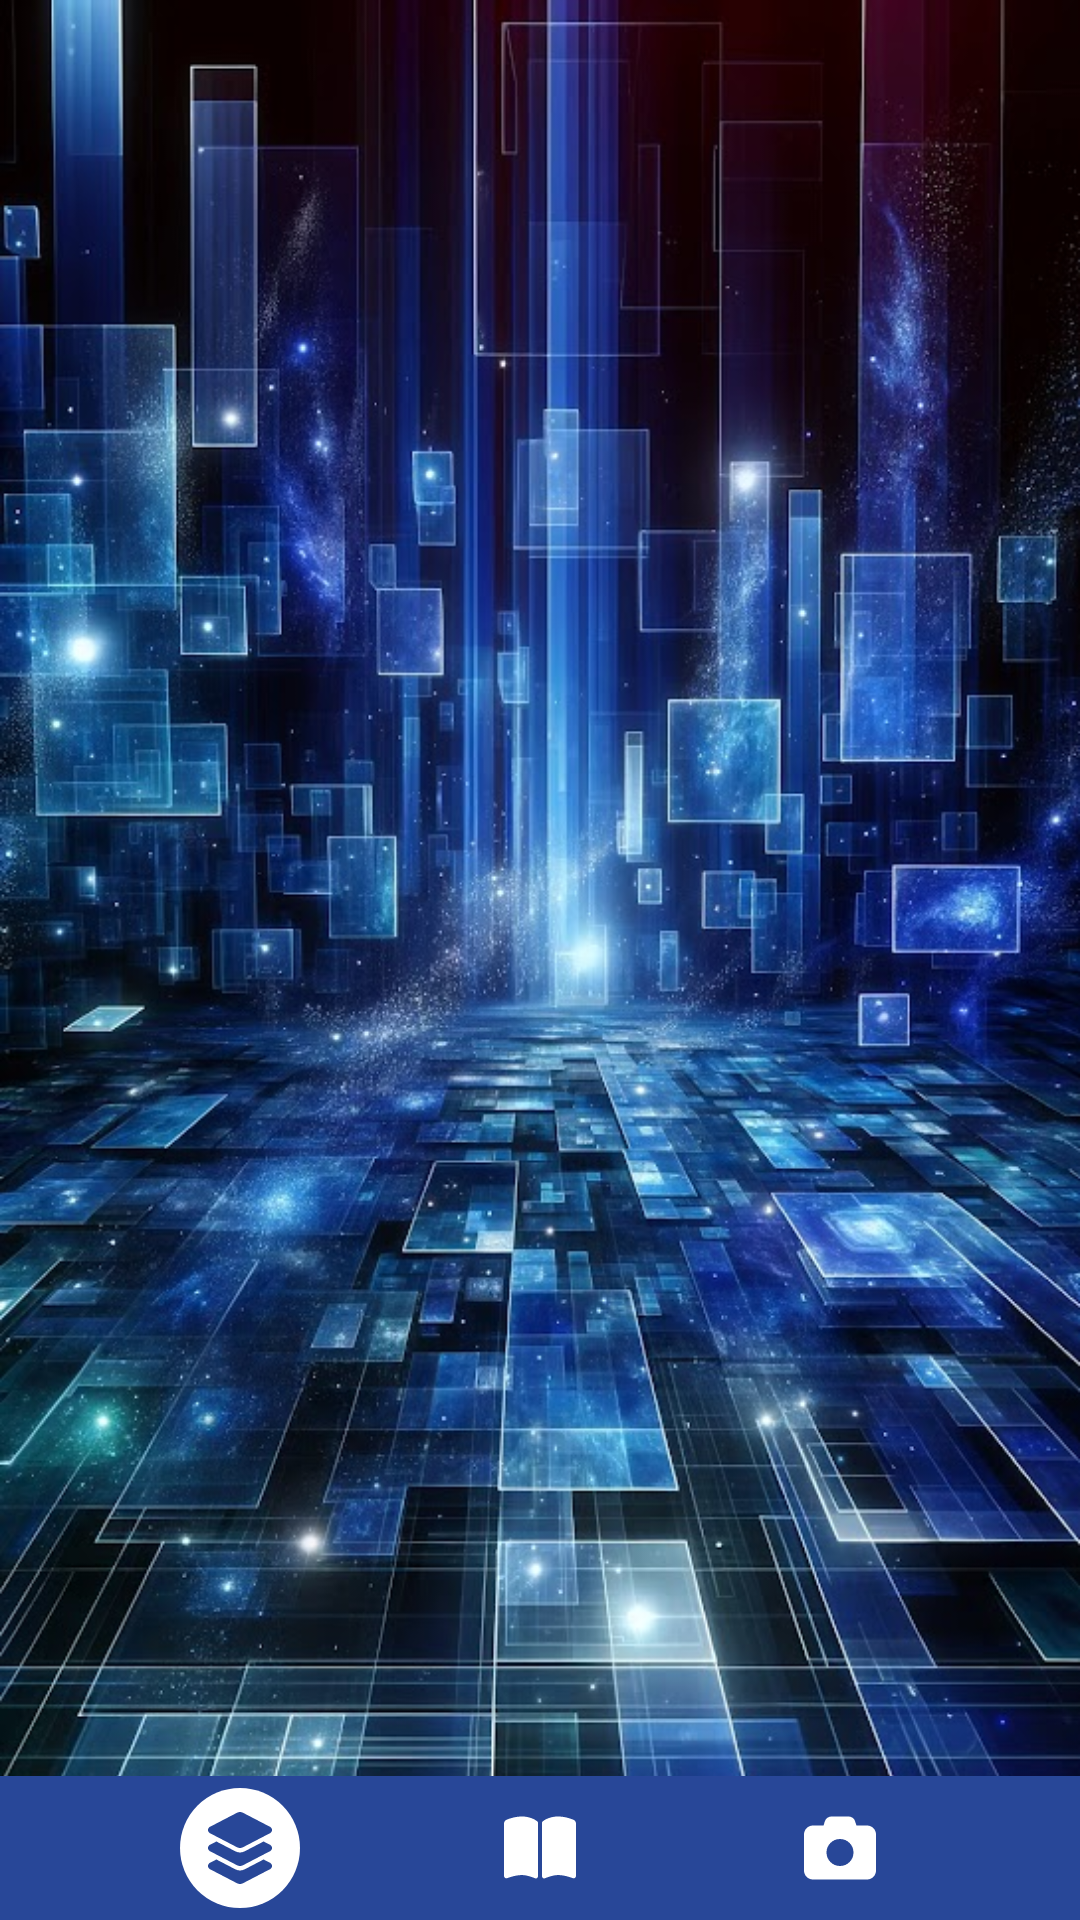

Locate icon controls on the screen. Image size 1080px x 1920px, boxes as [x1, y1, x2, y2].
book open: [504, 1816, 576, 1879]
camera: [804, 1816, 876, 1880]
